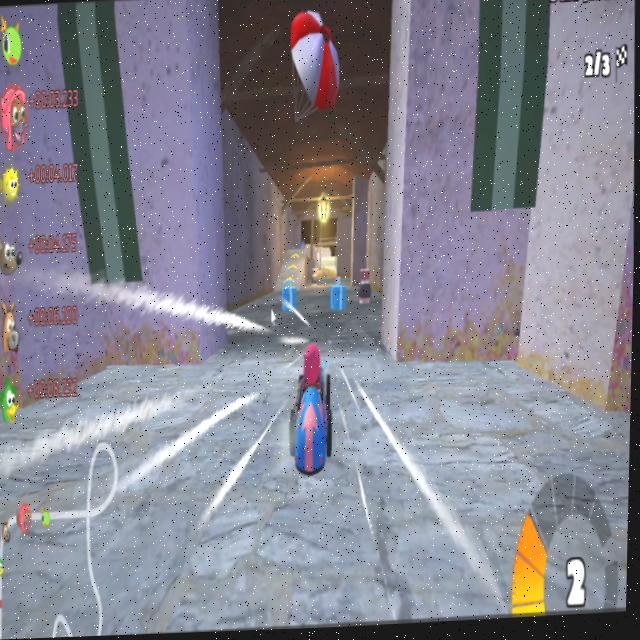bonus: (327, 275, 347, 317)
player_kart: (285, 348, 348, 476)
track: (130, 339, 284, 630), (346, 365, 541, 560)
